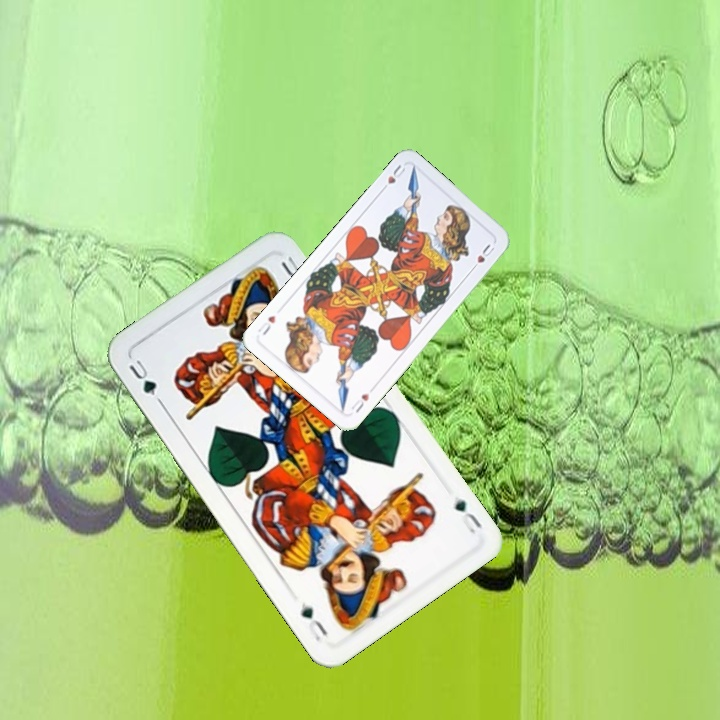GU: (124, 355, 164, 406), (450, 494, 485, 536)
HU: (377, 160, 408, 194), (347, 389, 372, 416)
